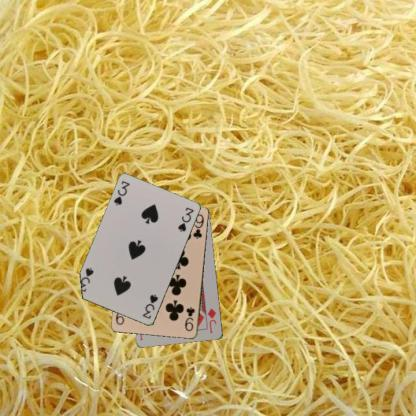3s: (111, 178, 131, 207), (140, 292, 159, 320)
9c: (182, 304, 196, 333)
Jd: (205, 306, 218, 335)
